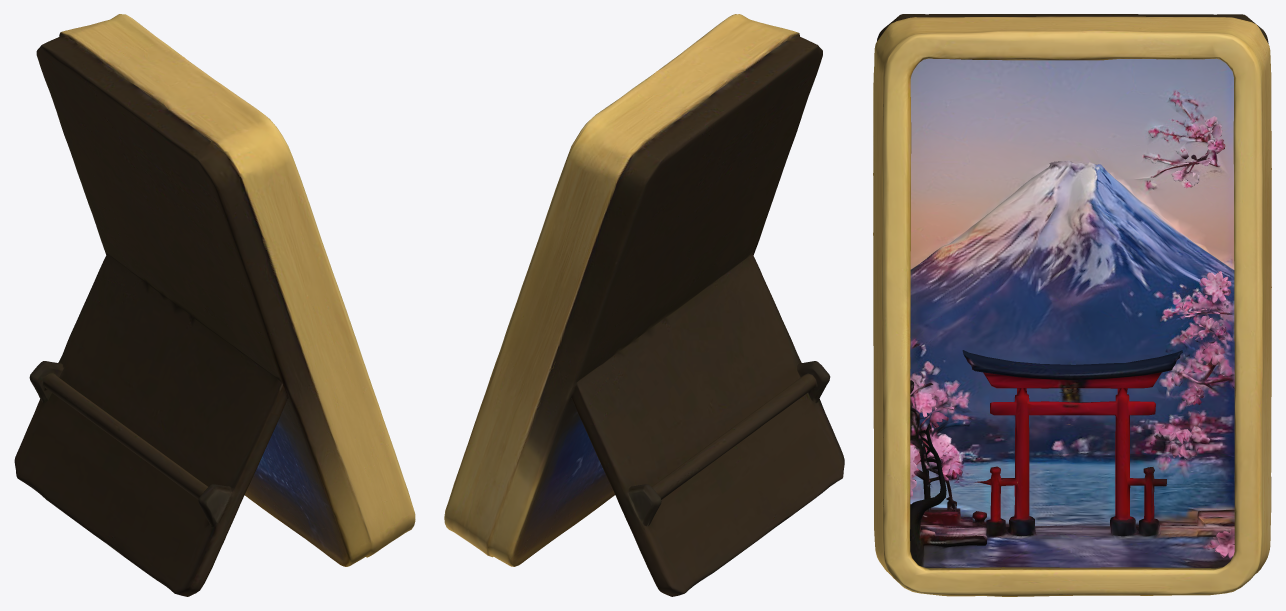
File: brass-travel-frame-mobile.glb
3 views of the same model, side by side, from view 1: azimuth 30°, elevation 25°; view 2: azimuth 150°, elevation 25°; view 3: azimuth 270°, elevation 25° (orthographic). The views are drawn at different scales.
Parts seen in each view (by area): view 1: tripo_node_7c5fb845-dfef-4467-88d9-e6da38305e0a; view 2: tripo_node_7c5fb845-dfef-4467-88d9-e6da38305e0a; view 3: tripo_node_7c5fb845-dfef-4467-88d9-e6da38305e0a.
Part boxes in pixels (x1,y1,x2,y2): tripo_node_7c5fb845-dfef-4467-88d9-e6da38305e0a: [14, 14, 415, 596]; tripo_node_7c5fb845-dfef-4467-88d9-e6da38305e0a: [444, 14, 844, 596]; tripo_node_7c5fb845-dfef-4467-88d9-e6da38305e0a: [873, 14, 1271, 596].
Bounding box in the file's own units: 0.1094 × 0.2 × 0.1422.
Materials: 1 (1 with a texture image).
